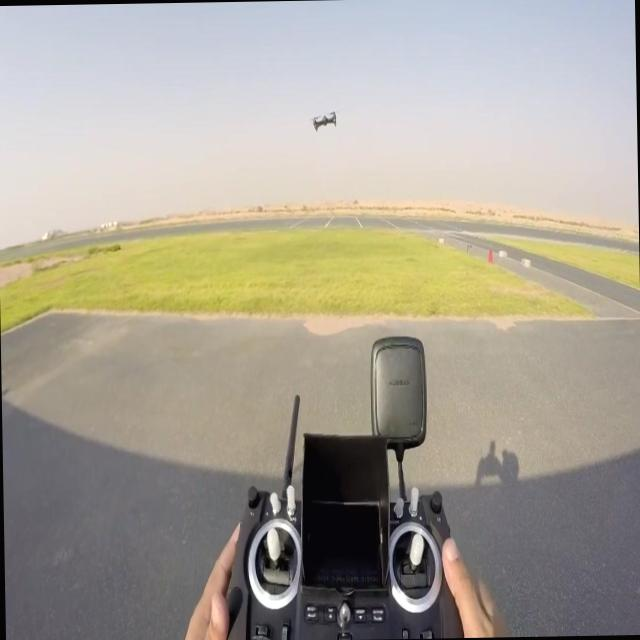drone: (309, 110, 337, 132)
